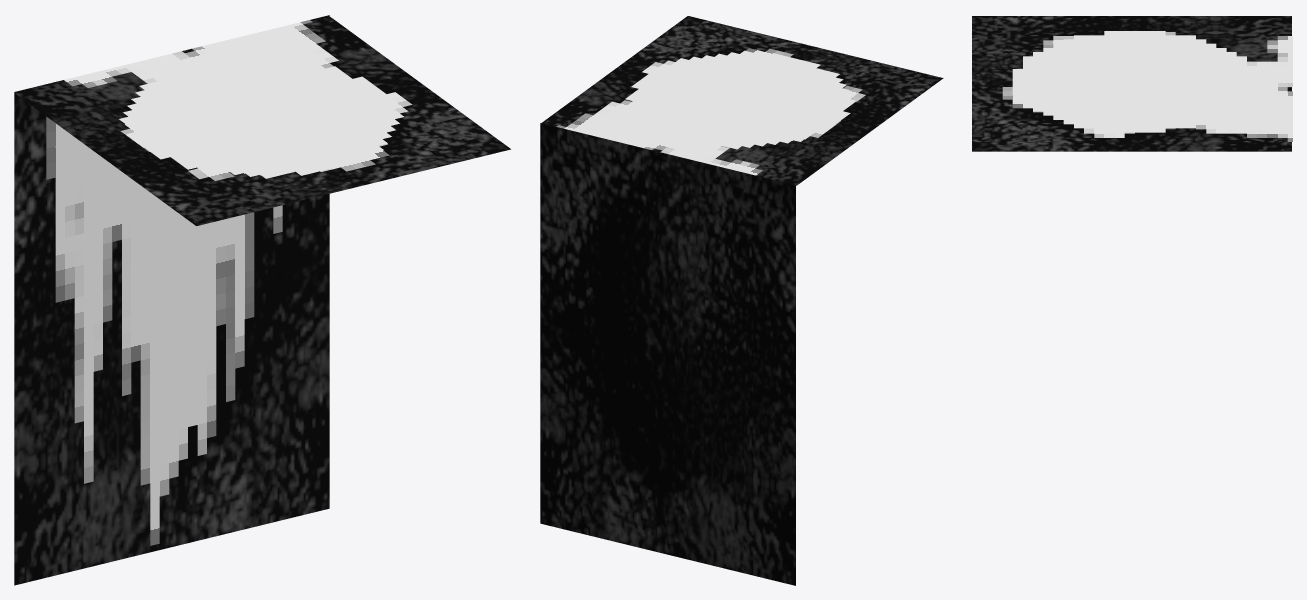
File: simihotel.dae
3 views of the same model, side by side, from view 1: azimuth 30°, elevation 25°; view 2: azimuth 150°, elevation 25°; view 3: azimuth 270°, elevation 25° (orthographic). The views are drawn at different scales.
Parts seen in each view (by area): view 1: m0, m1, m4, m3, m2; view 2: m0, m4, m3, m2; view 3: m4, m3, m2.
Boxes of the visible parts, x1,y1,x2,y2 form: m0: (14, 15, 329, 585); m1: (46, 116, 282, 545); m4: (119, 57, 403, 178); m3: (15, 16, 510, 225); m2: (64, 20, 412, 180); m0: (540, 123, 795, 585); m4: (625, 50, 856, 149); m3: (541, 16, 943, 185); m2: (556, 48, 865, 175); m4: (1012, 31, 1257, 132); m3: (972, 16, 1291, 151); m2: (1002, 32, 1292, 141).
Size of the model in its own units: 300 by 450 by 300.
5 materials, 5 textured.
